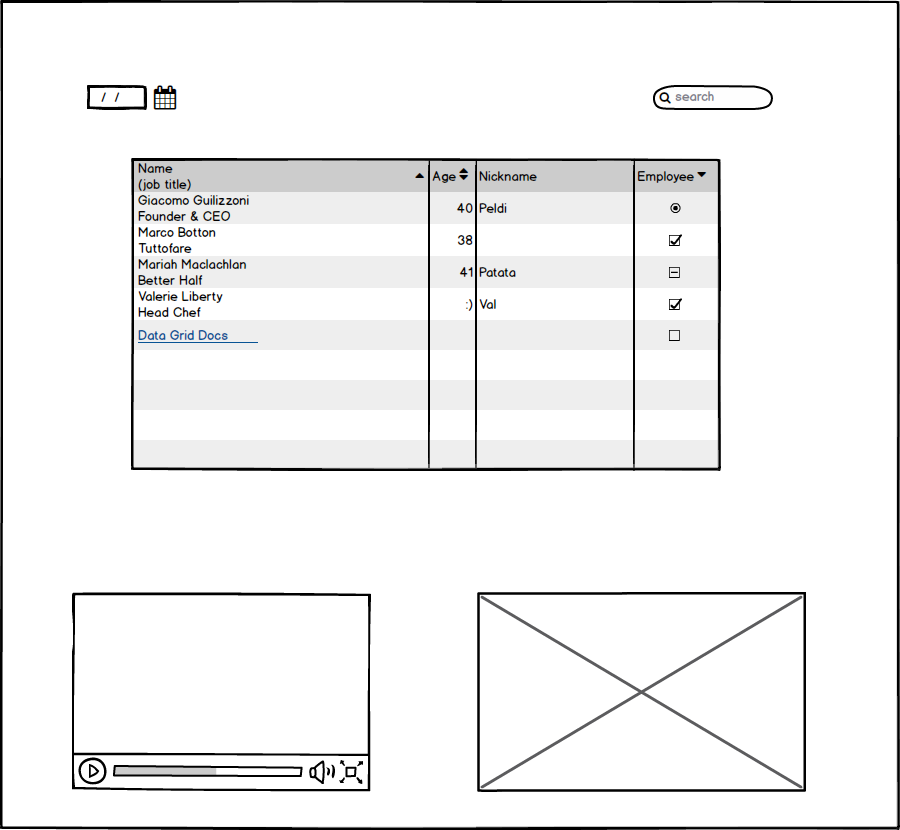date_picker: (77, 74, 185, 118)
image: (469, 583, 811, 800)
search: (645, 78, 779, 116)
table: (125, 154, 727, 476)
video: (70, 583, 377, 795)
